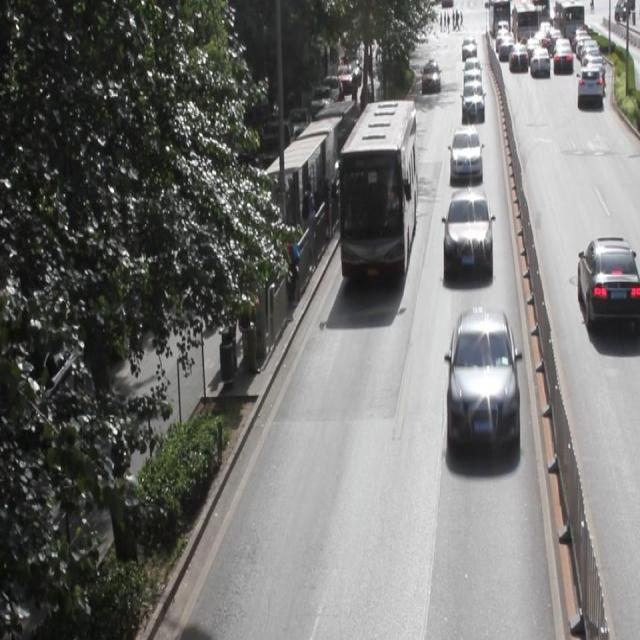car: (448, 306, 517, 448), (575, 236, 640, 329), (444, 186, 491, 276), (448, 124, 479, 182), (460, 79, 483, 119)
van: (338, 97, 415, 273)
